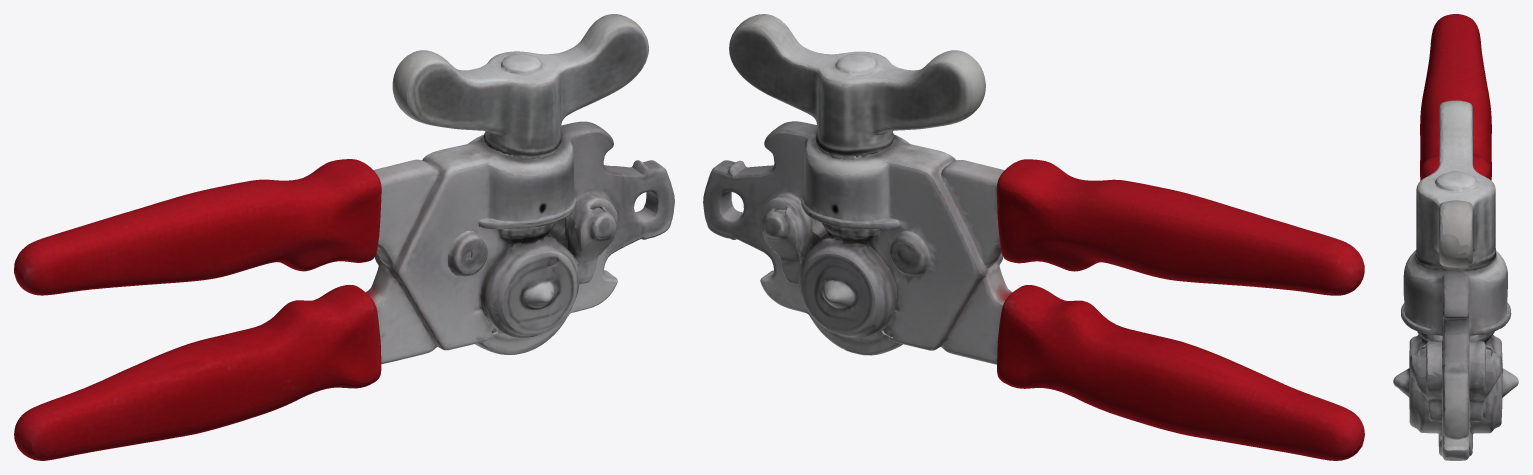
The model's file is parts.glb.
3 views of the same model, side by side, from view 1: azimuth 30°, elevation 25°; view 2: azimuth 150°, elevation 25°; view 3: azimuth 270°, elevation 25° (orthographic). The views are drawn at different scales.
Bounding box in the file's own units: 0.21 × 0.098 × 0.0362.
Materials: 4 (4 with a texture image).
